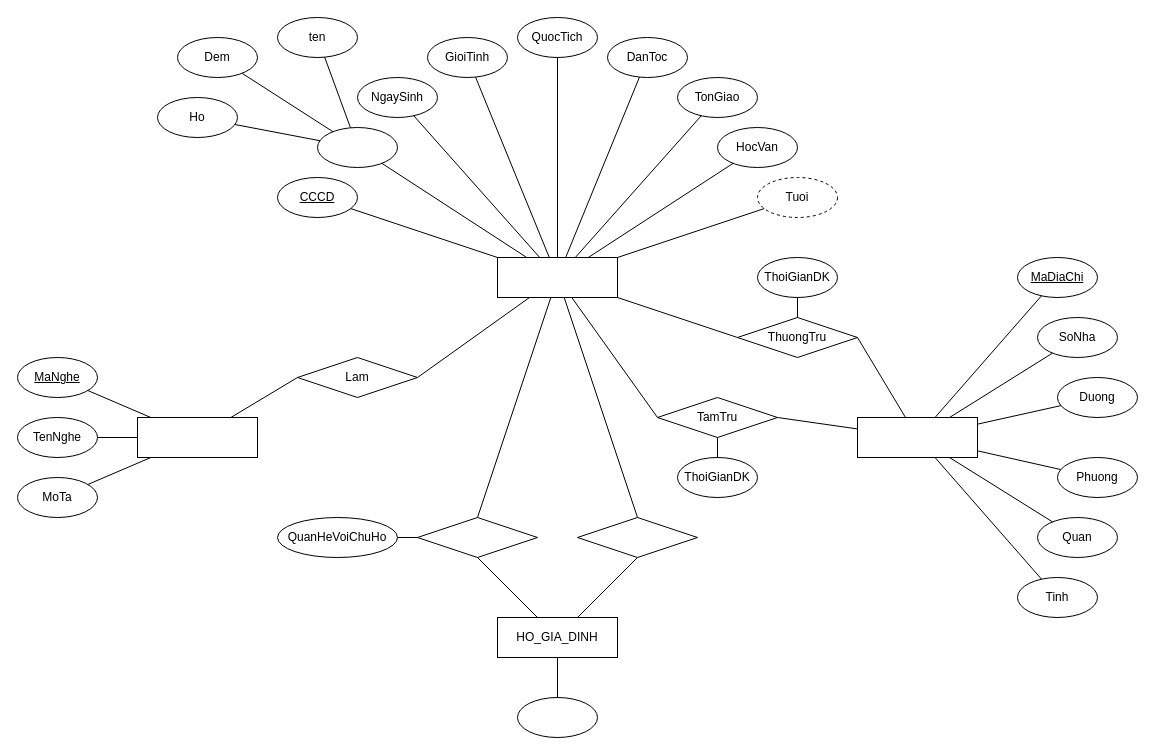
The diagram is 1155 pixels wide and 755 high, and some of its shapes have lost their labels. Each missing label, with the centre of its shape:
"CONG_DAN" belongs at (x=557, y=277).
"DIA_CHI" belongs at (x=917, y=437).
"HoTen" belongs at (x=357, y=147).
"MaHo" belongs at (x=557, y=717).
"NGHE_NGHIEP" belongs at (x=197, y=437).
"NhapHo" belongs at (x=477, y=537).
"XuatHo" belongs at (x=637, y=537).
